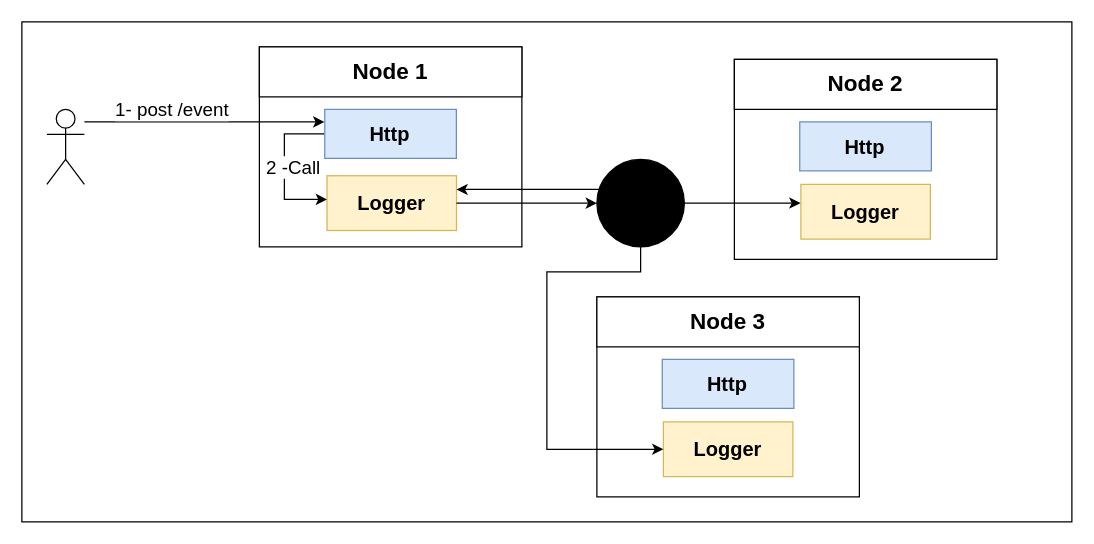
Some shapes in this 1094 by 544 pixel diagram are drawn without their labels. Here are the shapes that lost their labels. From the top down, the centre of each, then its label:
[65,146]: Actor
[640,202]: 3 - Multicast
